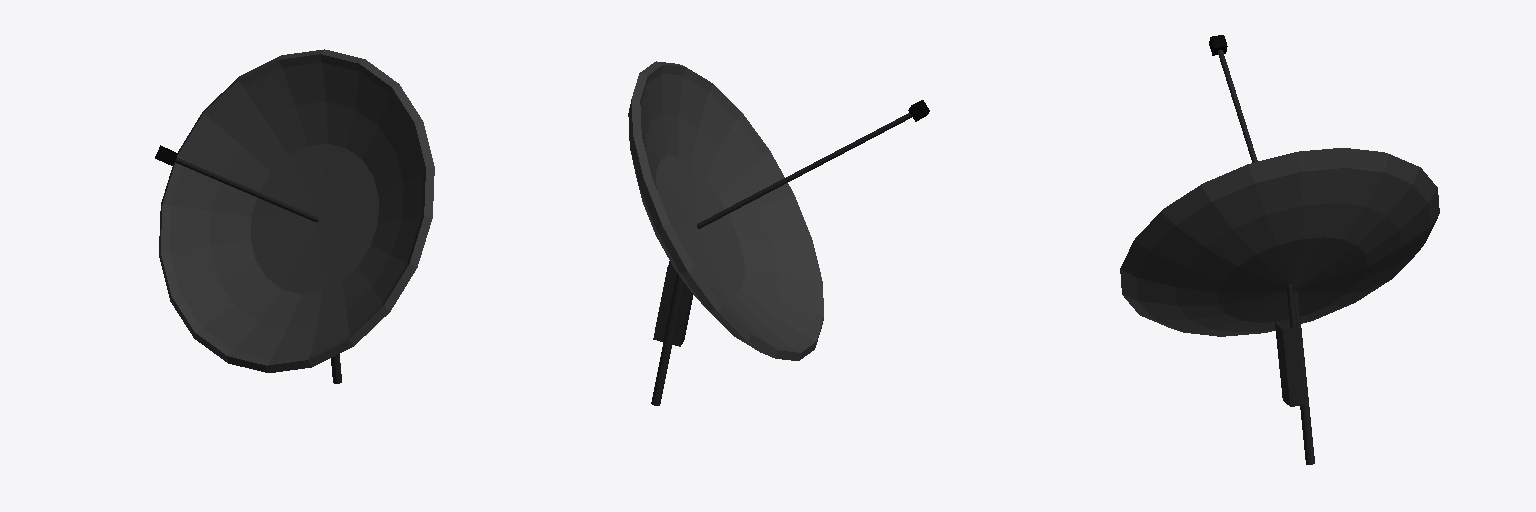
The model's file is Antenna_2.obj.
3 views of the same model, side by side, from view 1: azimuth 30°, elevation 25°; view 2: azimuth 150°, elevation 25°; view 3: azimuth 270°, elevation 25° (orthographic).
Parts seen in each view (by area): view 1: Antenna_2_Cylinder.002; view 2: Antenna_2_Cylinder.002; view 3: Antenna_2_Cylinder.002.
Boxes of the visible parts, <box> form: Antenna_2_Cylinder.002: <box>155,49,434,383</box>; Antenna_2_Cylinder.002: <box>628,61,929,405</box>; Antenna_2_Cylinder.002: <box>1120,35,1439,464</box>.
Size of the model in its own units: 0.6174 by 0.7306 by 0.6567.